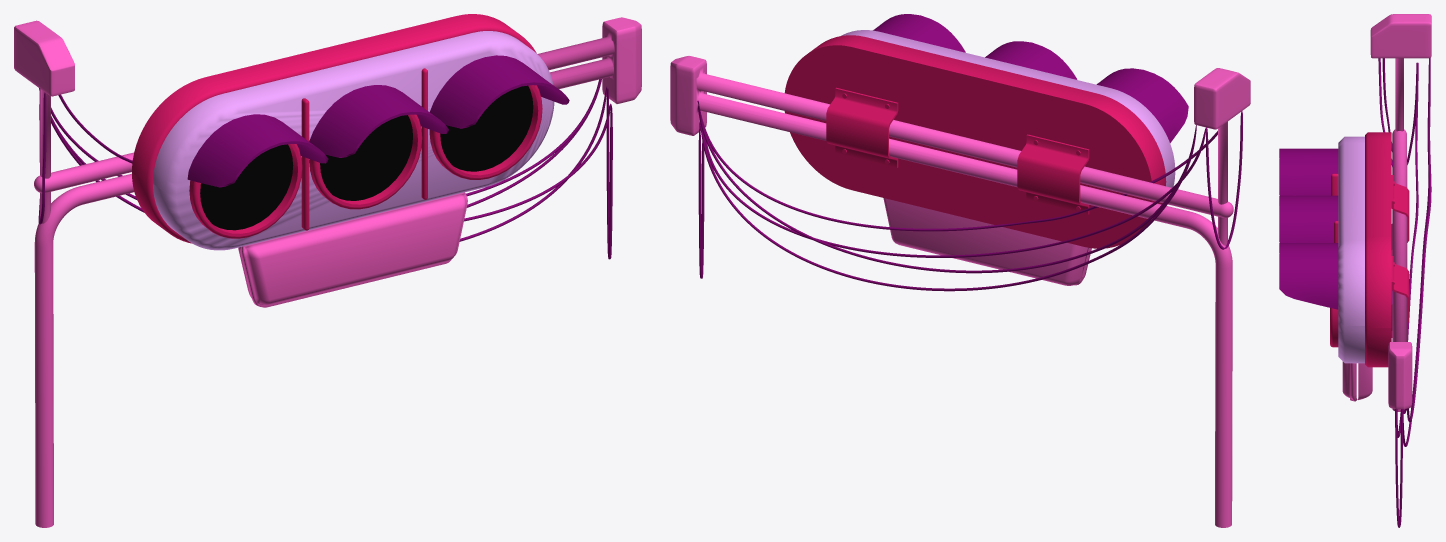
Rendered from traffic.fbx.
3 views of the same model, side by side, from view 1: azimuth 30°, elevation 25°; view 2: azimuth 150°, elevation 25°; view 3: azimuth 270°, elevation 25° (orthographic). The views are drawn at different scales.
Visible parts, largest first — view 1: Hanger, Body, Lights, Lofts, Wires, Loft, Separator, Separator_2; view 2: Hanger, Body, Wires, Lofts, Loft; view 3: Body, Hanger, Lofts, Wires, Loft, Lights.
Part boxes in pixels (<box>): Hanger: <box>14,17,641,527</box>; Body: <box>132,14,554,250</box>; Lights: <box>189,85,542,238</box>; Lofts: <box>187,55,569,187</box>; Wires: <box>38,79,612,259</box>; Loft: <box>309,85,448,157</box>; Separator: <box>301,98,309,230</box>; Separator_2: <box>421,68,427,199</box>; Hanger: <box>670,56,1250,527</box>; Body: <box>784,30,1175,248</box>; Wires: <box>697,100,1242,291</box>; Lofts: <box>873,14,1188,143</box>; Loft: <box>985,41,1077,79</box>; Body: <box>1338,132,1391,367</box>; Hanger: <box>1342,14,1431,411</box>; Lofts: <box>1279,148,1338,309</box>; Wires: <box>1378,58,1431,527</box>; Loft: <box>1279,195,1338,242</box>; Lights: <box>1330,308,1338,347</box>.
Bounding box in the file's own units: 529 × 406 × 143.
